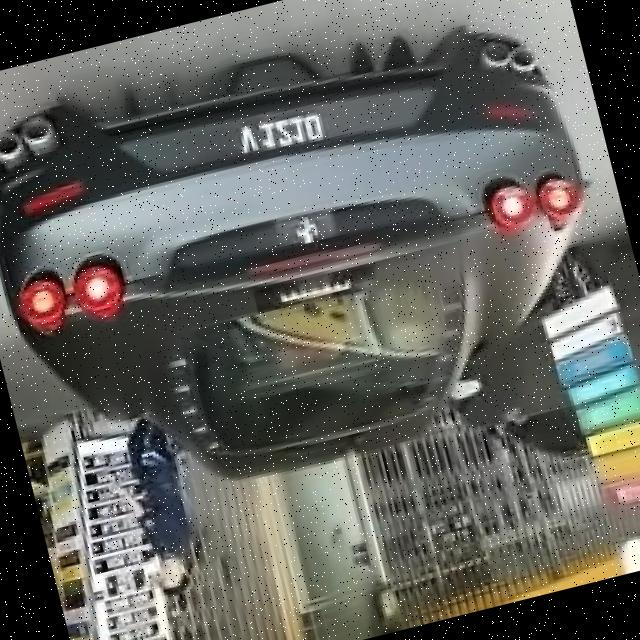License_Plate: (123, 65, 443, 198)
car: (1, 1, 615, 534)
